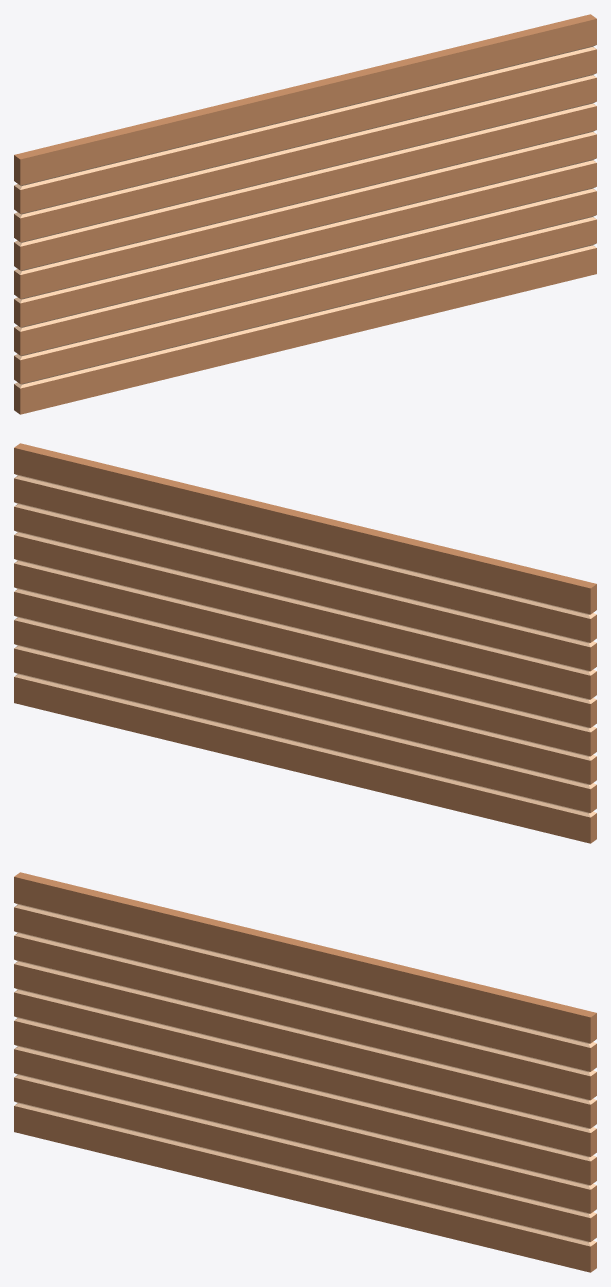
The model's file is wall.fbx.
3 views of the same model, one above another, from view 1: azimuth 30°, elevation 25°; view 2: azimuth 150°, elevation 25°; view 3: azimuth 330°, elevation 25° (orthographic).
Parts seen in each view (by area): view 1: Wall; view 2: Wall; view 3: Wall.
Boxes of the visible parts, <box> form: Wall: <box>14,14,596,414</box>; Wall: <box>14,443,596,843</box>; Wall: <box>14,872,596,1272</box>.
Bounding box in the file's own units: 680 × 287 × 12.77.
